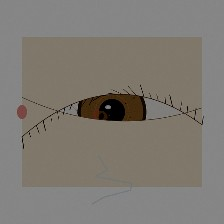foreign_body_visible: (85, 103, 118, 130)
